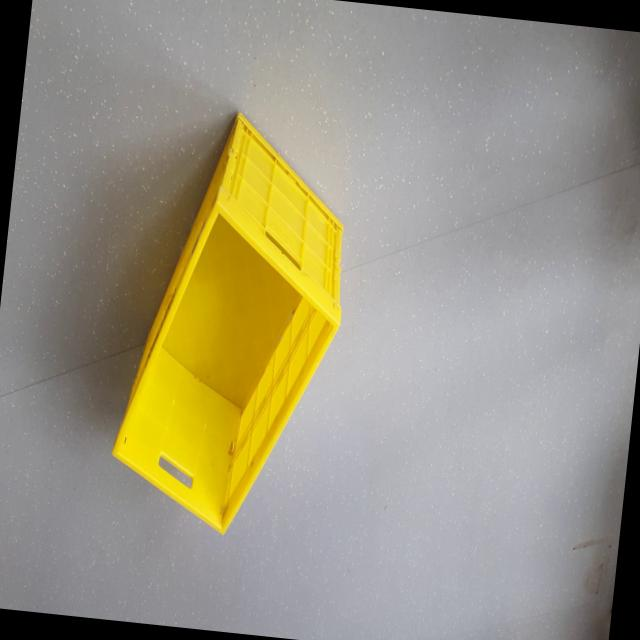box: (95, 92, 372, 558)
